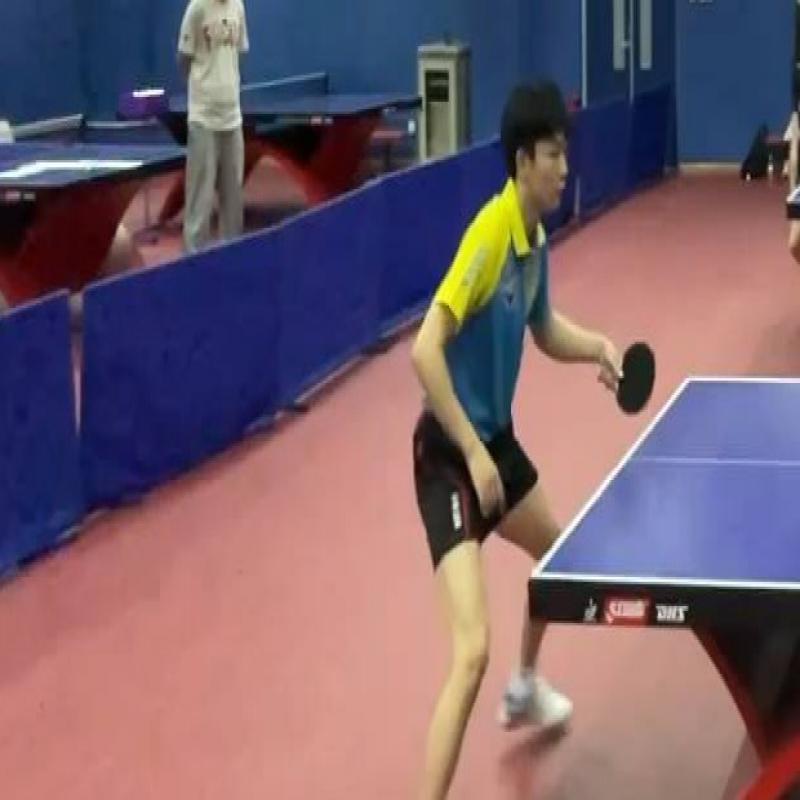bats: (605, 315, 665, 441)
